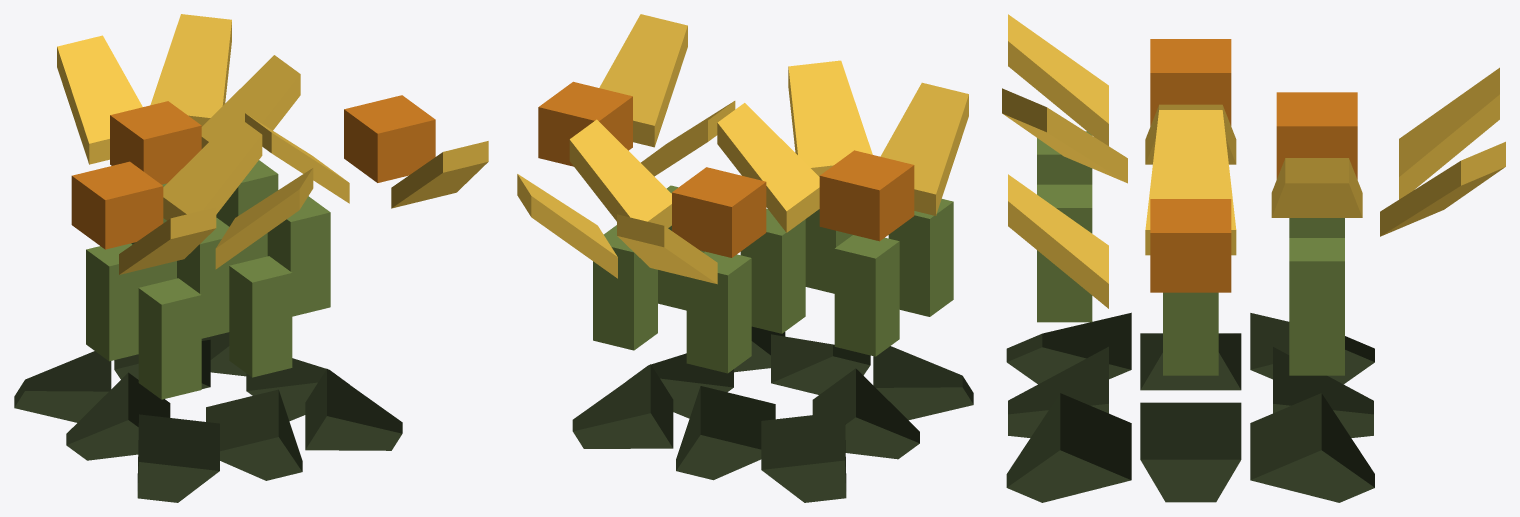
The model's file is flower_yellow_cluster.glb.
3 views of the same model, side by side, from view 1: azimuth 30°, elevation 25°; view 2: azimuth 150°, elevation 25°; view 3: azimuth 270°, elevation 25° (orthographic). The views are drawn at different scales.
Parts seen in each view (by area): view 1: flower_yellow_cluster; view 2: flower_yellow_cluster; view 3: flower_yellow_cluster.
Boxes of the visible parts, x1,y1,x2,y2 form: flower_yellow_cluster: [14, 14, 488, 502]; flower_yellow_cluster: [517, 14, 973, 502]; flower_yellow_cluster: [1002, 14, 1505, 502].
Bounding box in the file's own units: 0.382 × 0.301 × 0.3993.
1 material, 1 textured.
